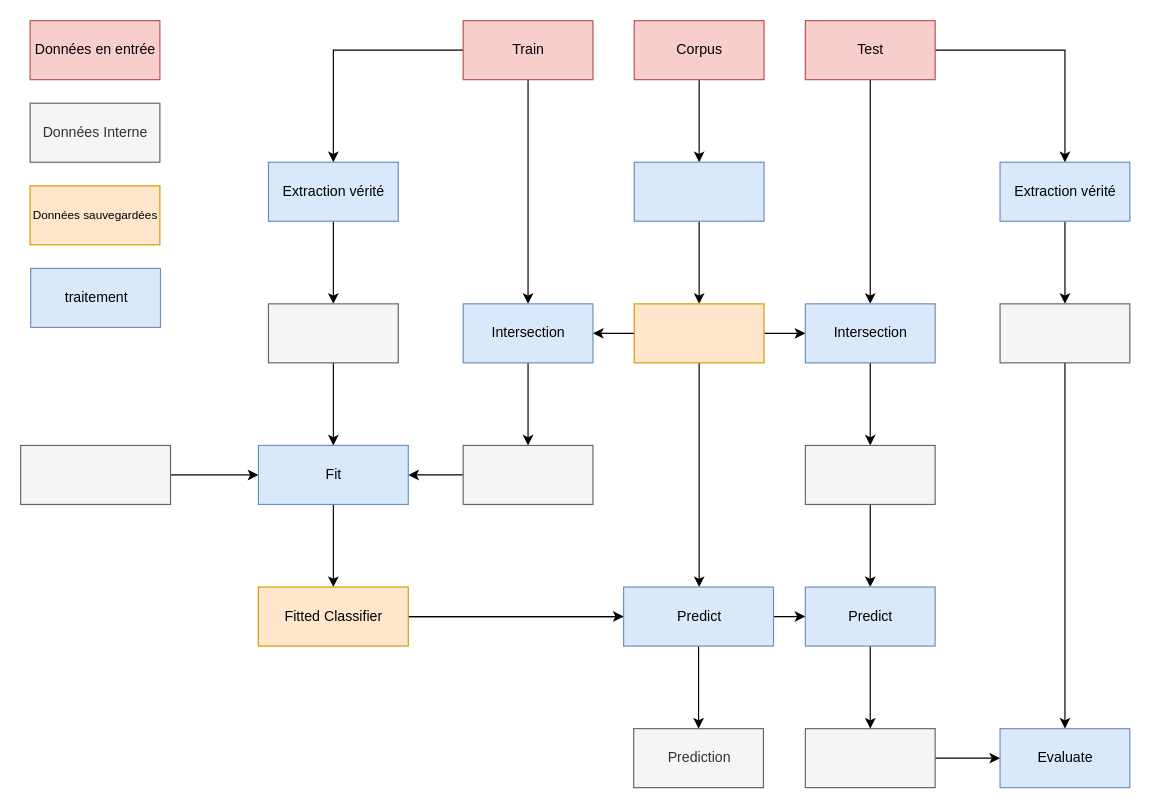
The diagram is 1151 pixels wide and 808 high, and some of its shapes have lost their labels. The centre of each missing label's shape, as x and y in pixels:
Calcul traits: [698,191]
Classifier: [95,474]
Prediction Test: [869,757]
Traits: [698,333]
Traits Test: [869,474]
Traits Train: [527,474]
Vérité Test: [1064,333]
Vérité Train: [332,333]
